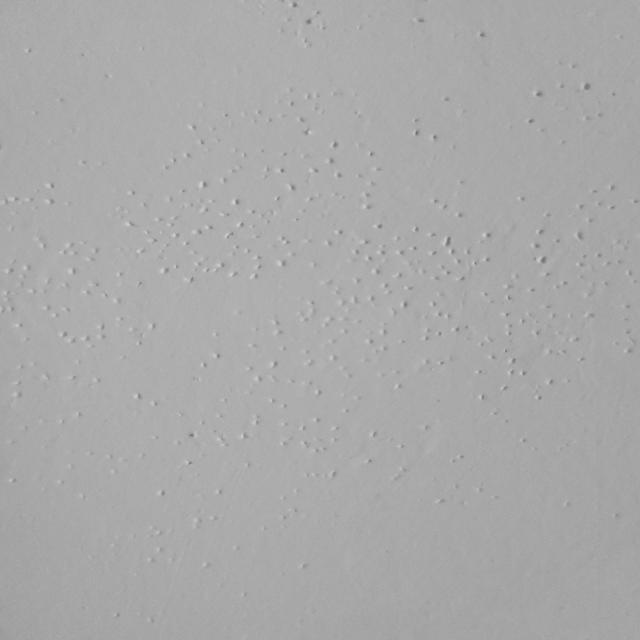rough and patchy surface: (2, 37, 640, 524), (114, 524, 310, 627), (254, 0, 496, 37)
